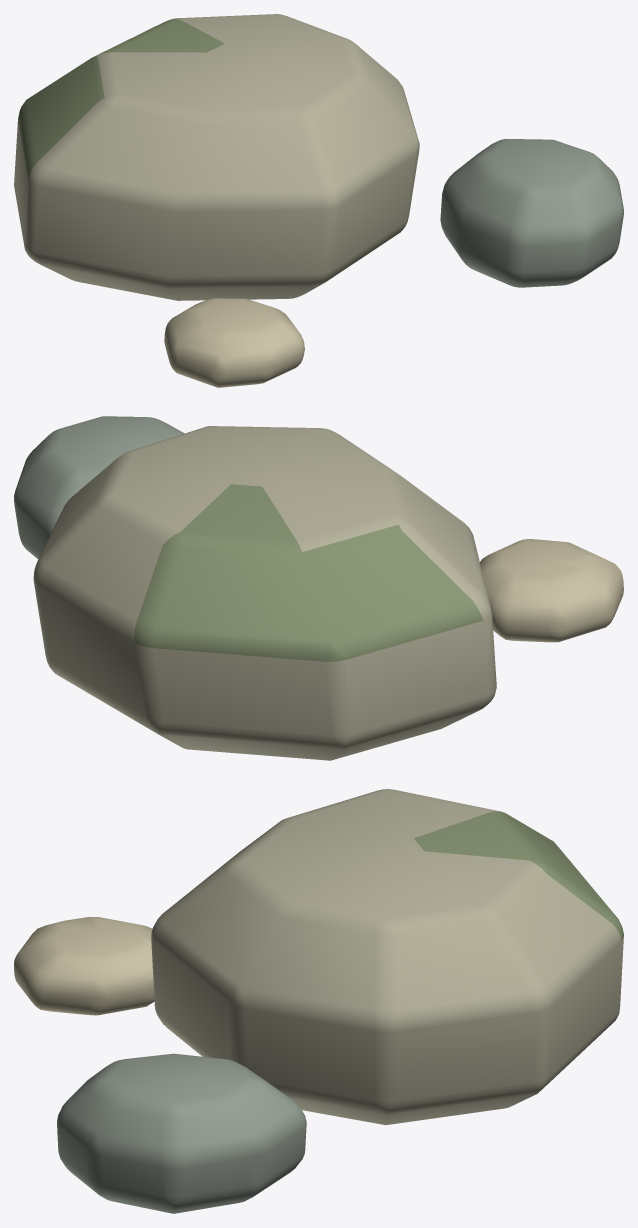
The model's file is cozy_rocks.glb.
The picture shows the model from 3 angles, top to bottom: view 1: azimuth 30°, elevation 25°; view 2: azimuth 150°, elevation 25°; view 3: azimuth 270°, elevation 25°; orthographic projection. The views are drawn at different scales.
Parts seen in each view (by area): view 1: rocks_RockWarm, rocks_RockCool, rocks_RockFace; view 2: rocks_RockWarm, rocks_RockFace, rocks_RockCool; view 3: rocks_RockWarm, rocks_RockCool, rocks_RockFace.
Part boxes in pixels (x1,y1,x2,y2): rocks_RockWarm: (14, 14, 419, 300); rocks_RockCool: (440, 139, 623, 287); rocks_RockFace: (164, 298, 304, 387); rocks_RockWarm: (33, 426, 496, 760); rocks_RockFace: (480, 539, 623, 642); rocks_RockCool: (14, 416, 184, 559); rocks_RockWarm: (151, 789, 623, 1125); rocks_RockCool: (57, 1053, 306, 1213); rocks_RockFace: (14, 917, 154, 1015).
Bounding box in the file's own units: 0.8876 × 0.317 × 0.8051.
